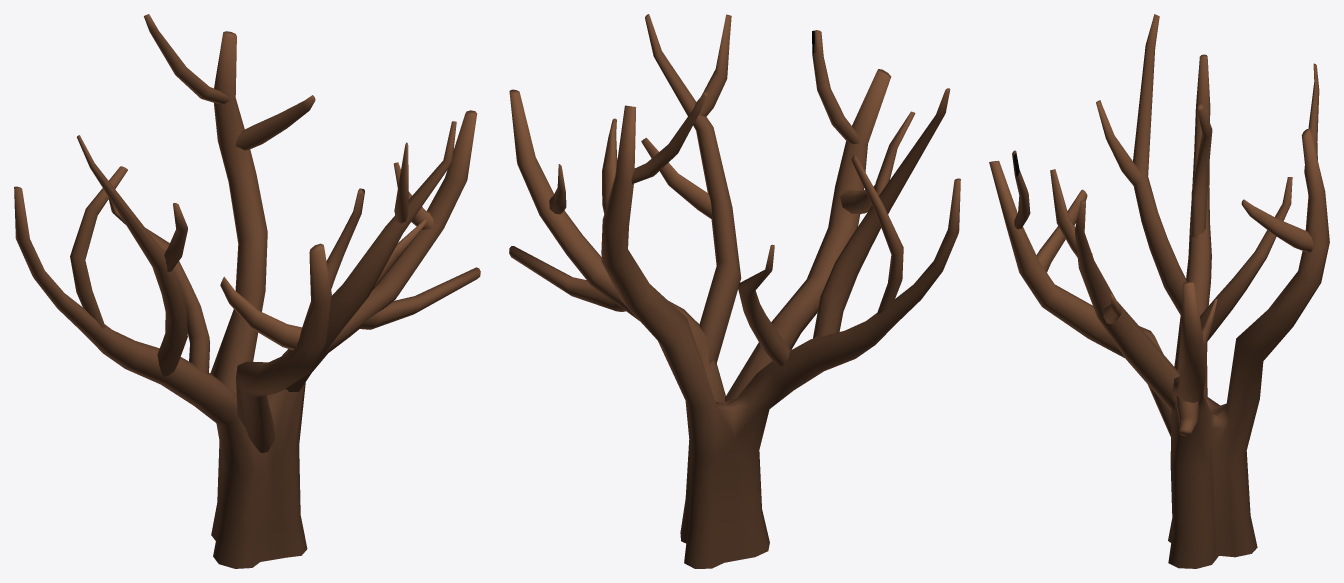
File: Naked_Tree_03.fbx
3 renders of one model, left to right at view 1: azimuth 30°, elevation 25°; view 2: azimuth 150°, elevation 25°; view 3: azimuth 270°, elevation 25°, orthographic. The views are drawn at different scales.
Visible parts, largest first — view 1: Naked_Tree_03; view 2: Naked_Tree_03; view 3: Naked_Tree_03.
Boxes of the visible parts, x1,y1,x2,y2 form: Naked_Tree_03: [14, 14, 480, 568]; Naked_Tree_03: [509, 14, 960, 568]; Naked_Tree_03: [989, 14, 1329, 568].
Size of the model in its own units: 692 by 732 by 486.
